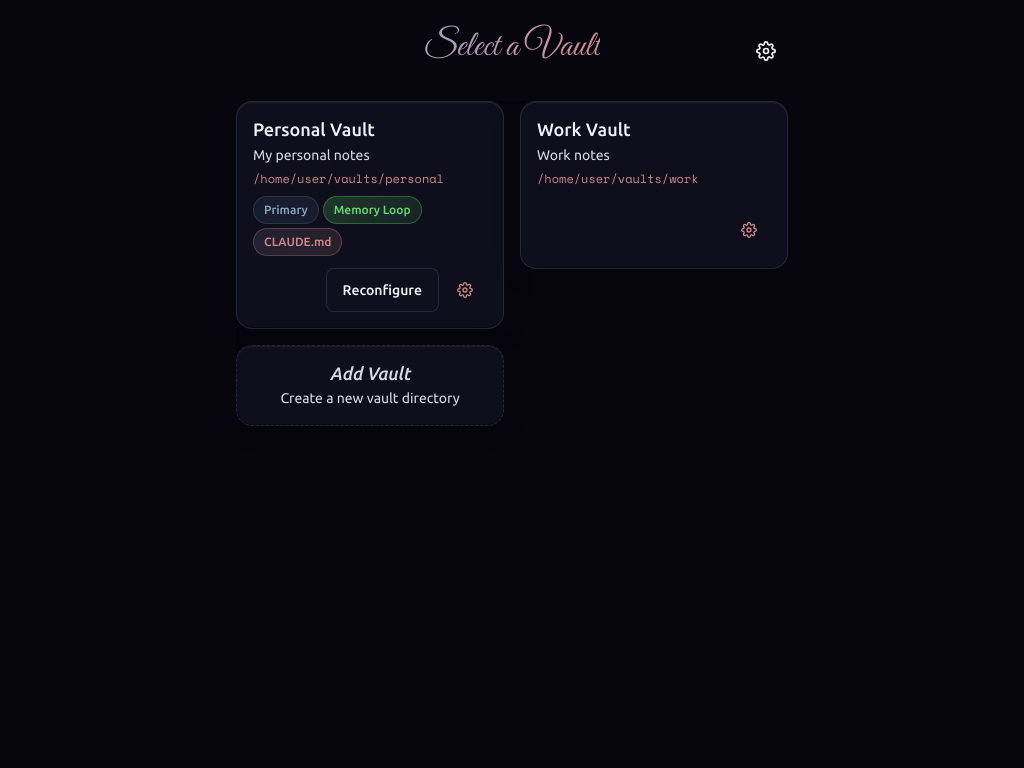
VaultSelect › add vault card › opens add vault dialog when clicked
Expected: the heading "Add Vault" is shown, [330,362,410,384]
What coordinates should you click on to do the following:
click the option "Add Vault Create a new vault directory"
I would click on:
 (370, 385)
Its box is [236,344,504,426].
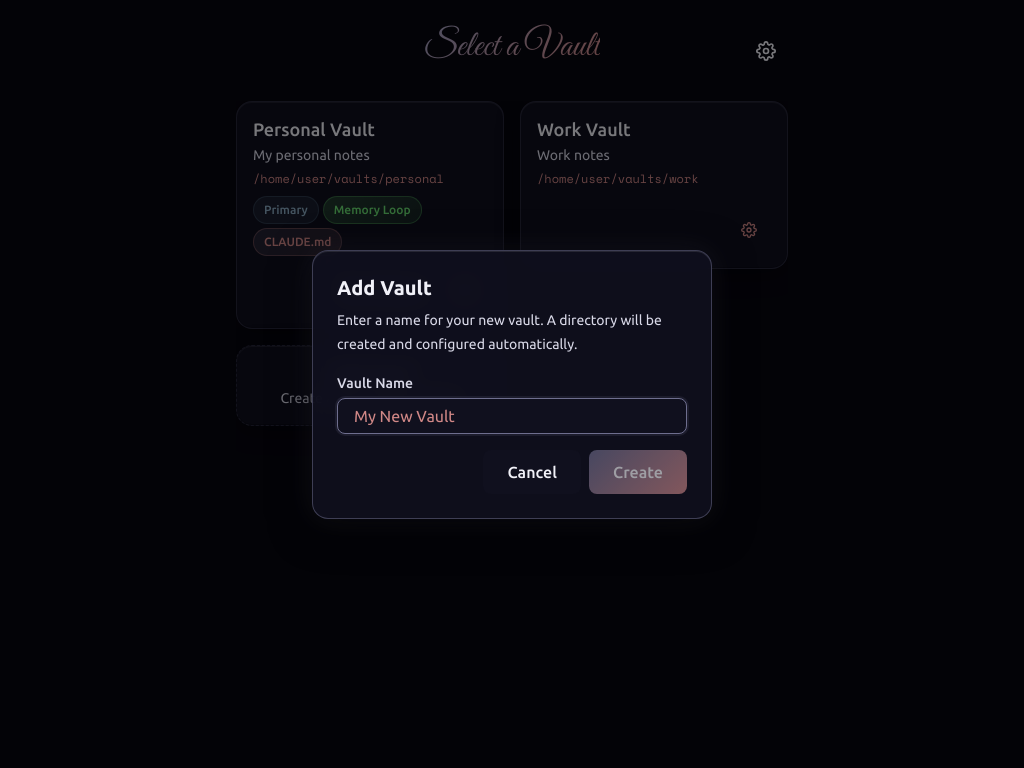
Expected: the field labelled "Vault Name" is shown, [337,398,687,434]
